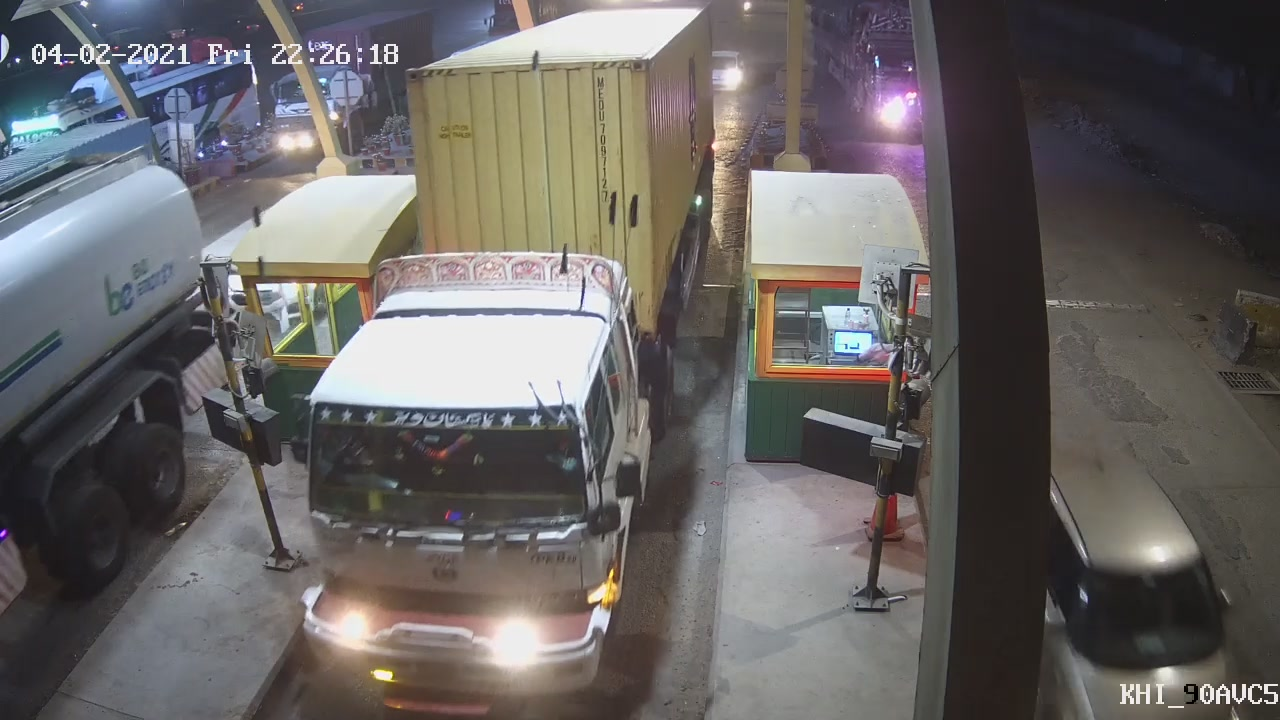F6: (292, 5, 734, 719)
